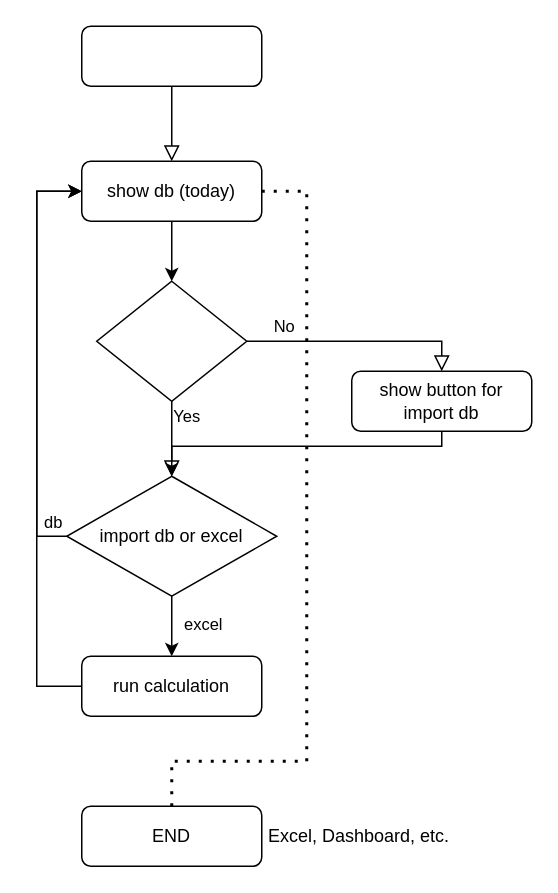
Image size: 558x893. Some labels were removed from this diagram. Here are the shapes that lost their labels. From the top down, the centre of each, then its label:
At (171,55): "START".
At (171,340): "existing db?".
